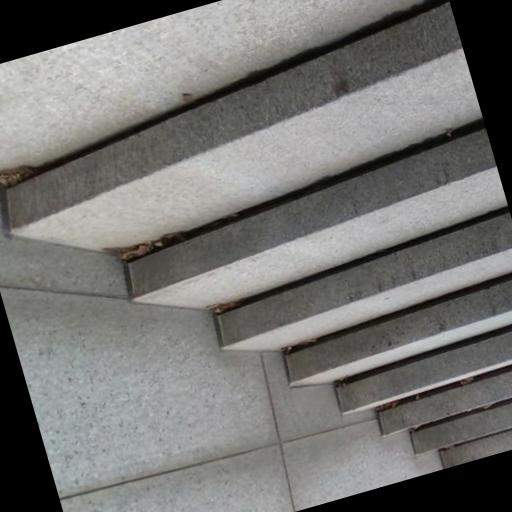stairs: (7, 2, 511, 466)
